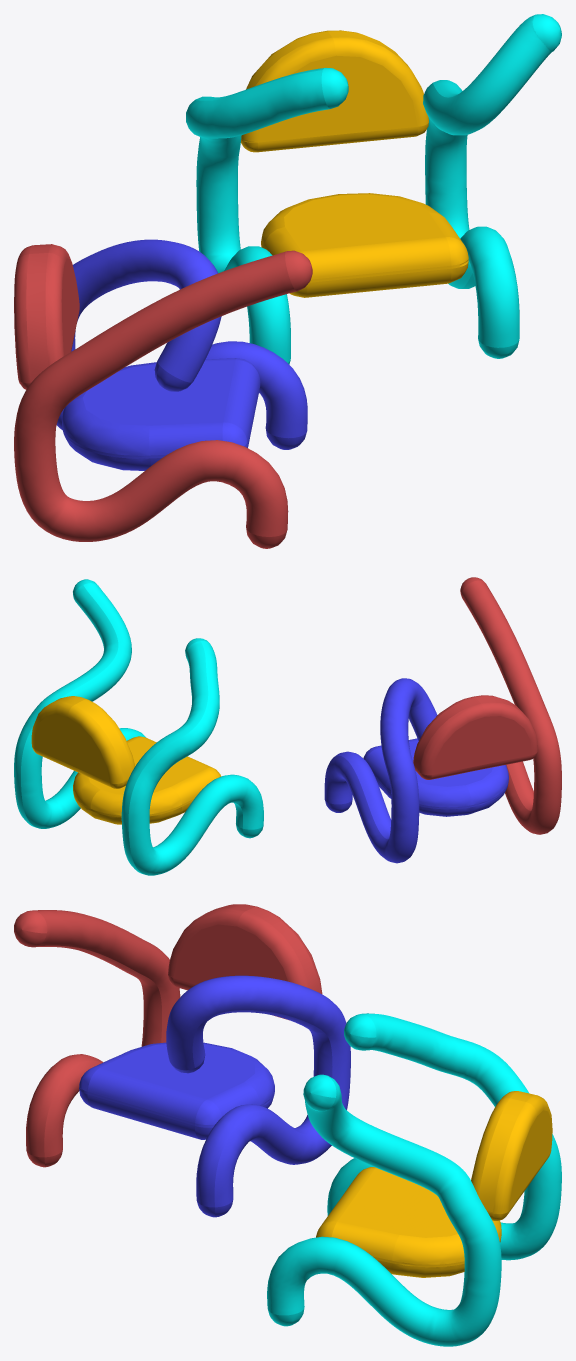
The model's file is Project 03_Chummy Chair.glb.
3 views of the same model, one above another, from view 1: azimuth 30°, elevation 25°; view 2: azimuth 150°, elevation 25°; view 3: azimuth 270°, elevation 25° (orthographic). The views are drawn at different scales.
Bounding box in the file's own units: 1.08 × 0.5078 × 0.9165.
